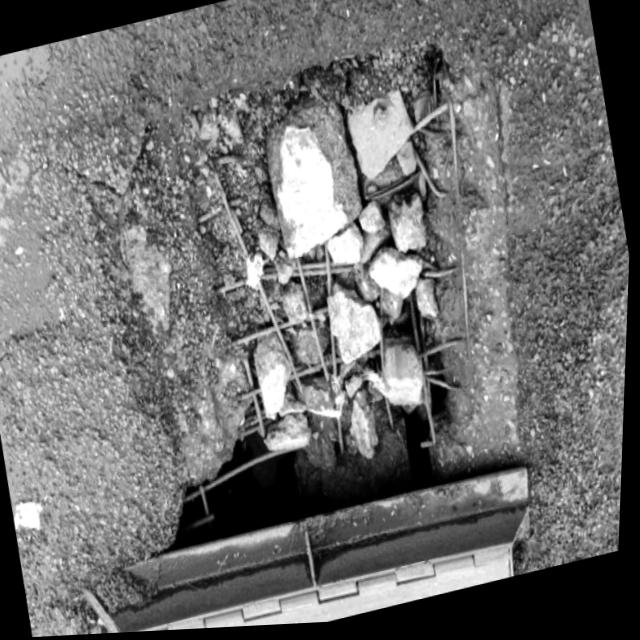pathole: (69, 0, 560, 632), (119, 0, 534, 634), (123, 67, 361, 430), (181, 386, 257, 486)
